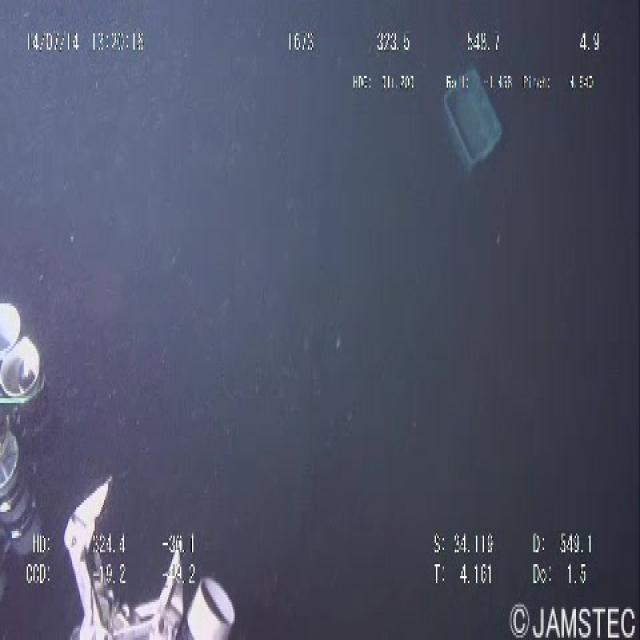plastic: (435, 57, 509, 173)
